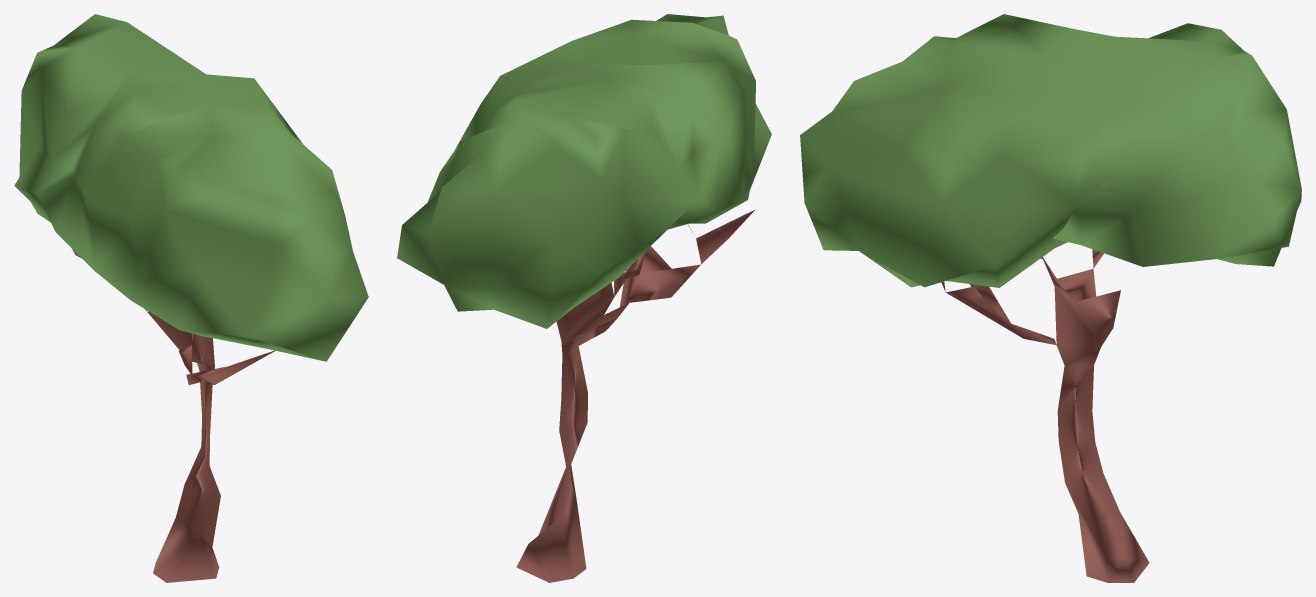
Rendered from CommonTree_5_lod.glb.
The picture shows the model from 3 angles, left to right: view 1: azimuth 30°, elevation 25°; view 2: azimuth 150°, elevation 25°; view 3: azimuth 270°, elevation 25°; orthographic projection. The views are drawn at different scales.
Parts seen in each view (by area): view 1: CommonTree_5; view 2: CommonTree_5; view 3: CommonTree_5.
Boxes of the visible parts, <box> form: CommonTree_5: <box>14,14,368,582</box>; CommonTree_5: <box>397,14,771,582</box>; CommonTree_5: <box>800,14,1301,582</box>.
Size of the model in its own units: 125 by 249 by 224.
